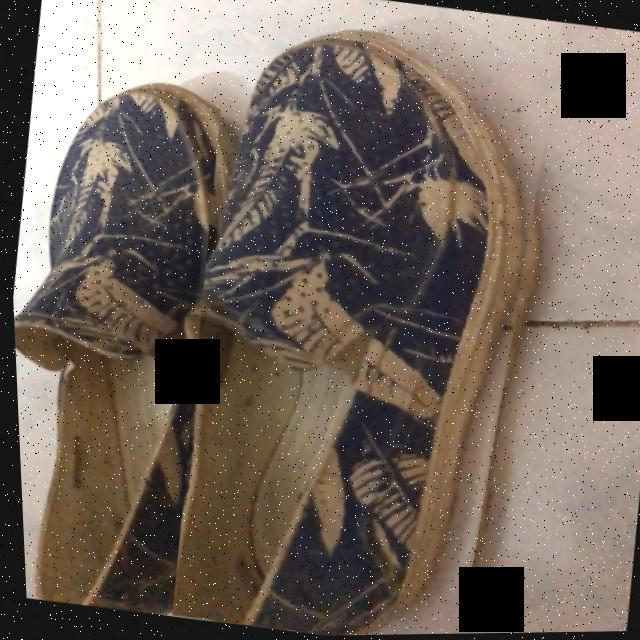shoe: (166, 35, 528, 637)
